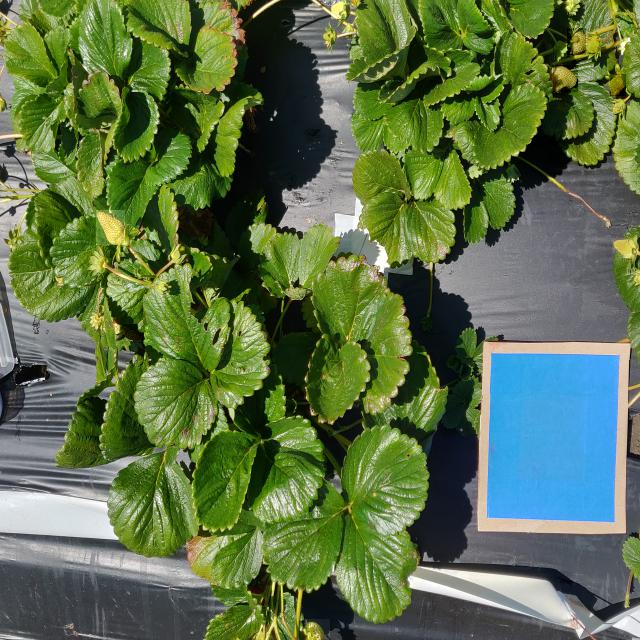Green Strawberry: (96, 210, 126, 246), (553, 65, 579, 93), (612, 238, 639, 260), (568, 28, 588, 56), (304, 619, 332, 639), (122, 324, 144, 344), (610, 74, 627, 97), (331, 0, 347, 20), (588, 34, 599, 60)
